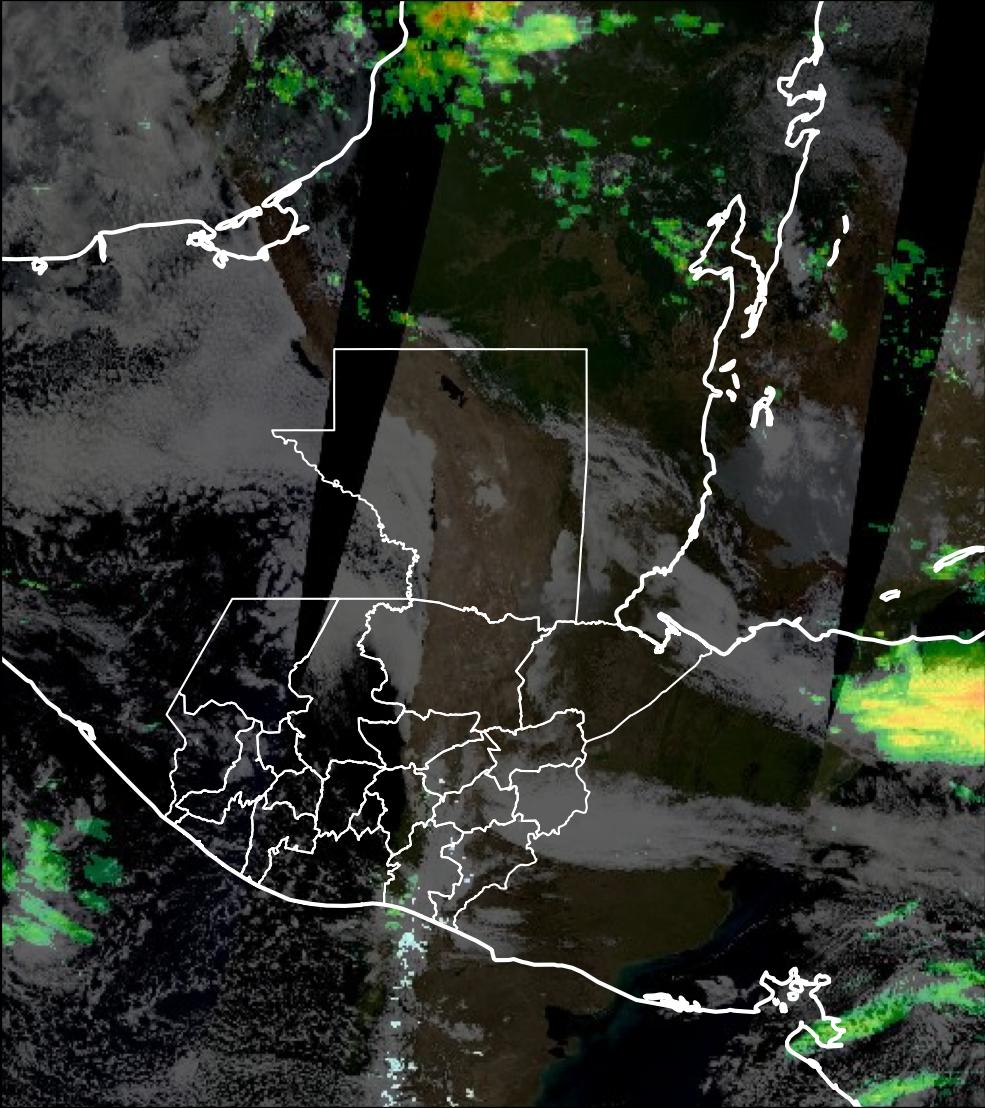precipitacion: (866, 660, 985, 749)
